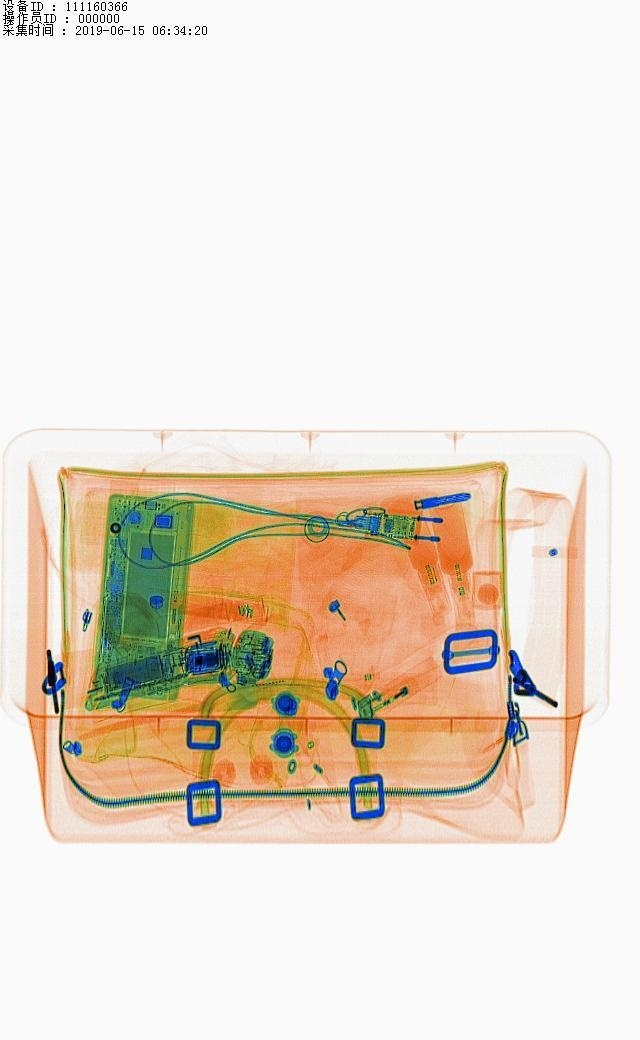NonmetallicFire: (346, 663, 447, 715)
